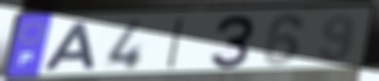3: (207, 13, 257, 71)
4: (104, 19, 144, 72)
6: (260, 12, 309, 68)
9: (317, 13, 360, 64)
A: (39, 21, 99, 73)
I: (164, 16, 188, 71)
